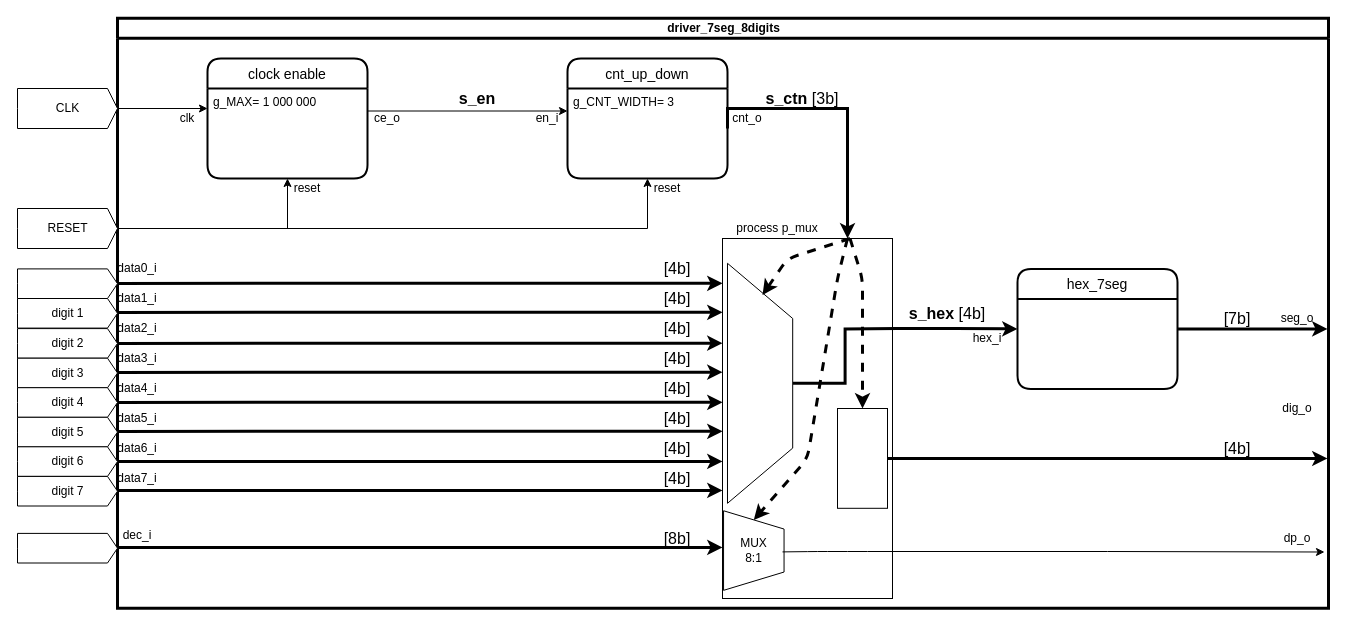
This 1354x627 diagram has some shape labels left out. Here are the shapes that lost their labels. From the top down, the centre of each, then its label:
At pixel 67 283: "digit 0".
At pixel 759 382: "MUX 32:4".
At pixel 862 458: "LUT (Look up table)".
At pixel 67 547: "dec. points".
